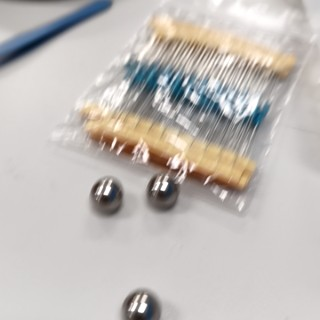ironball: (108, 273, 165, 318), (139, 162, 185, 217), (82, 169, 124, 216)
